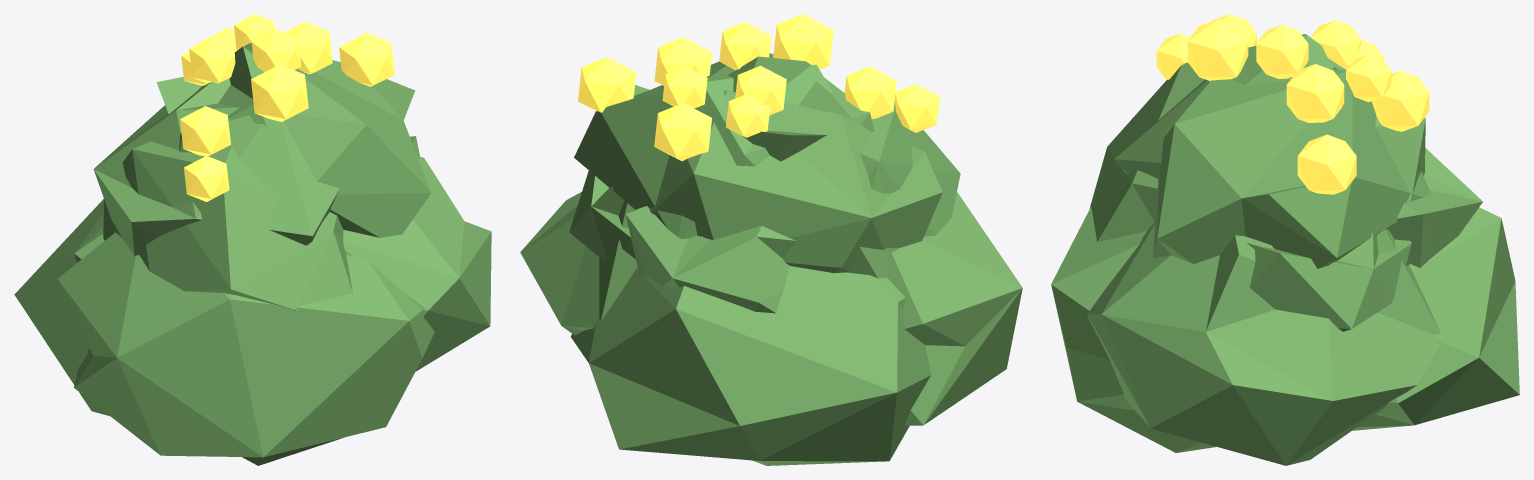
Rendered from sunfruit-bush.glb.
The picture shows the model from 3 angles, left to right: view 1: azimuth 30°, elevation 25°; view 2: azimuth 150°, elevation 25°; view 3: azimuth 270°, elevation 25°; orthographic projection. The views are drawn at different scales.
Parts seen in each view (by area): view 1: Leaves, Fruit; view 2: Leaves, Fruit; view 3: Leaves, Fruit.
Boxes of the visible parts, x1=… form: Leaves: x1=14, y1=43, x2=491, y2=465; Fruit: x1=180, y1=14, x2=394, y2=201; Leaves: x1=520, y1=53, x2=1022, y2=465; Fruit: x1=578, y1=14, x2=939, y2=161; Leaves: x1=1051, y1=34, x2=1519, y2=465; Fruit: x1=1156, y1=14, x2=1429, y2=194.
Bounding box in the file's own units: 1 × 0.946 × 0.9115.
